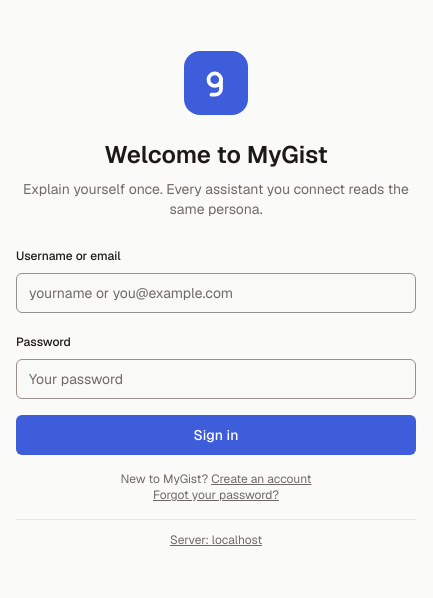
Scenario: forgotten password › is not offered while signing up, where it makes no sense
The width and height of the screenshot is (433, 598).
Step 1. Click the button "Create an account" → (261, 478), box [211,470,312,486]
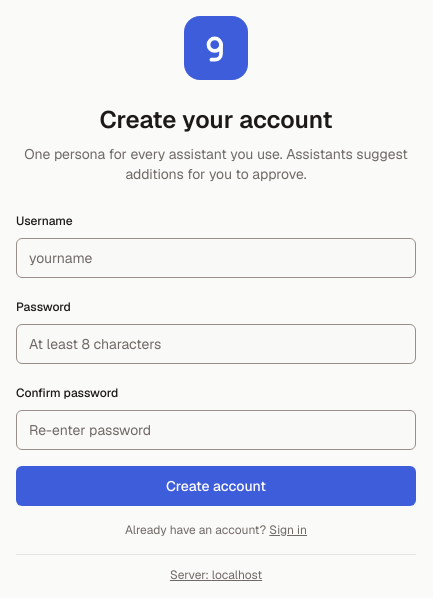
Check: the button "Forgot your password" is gone
